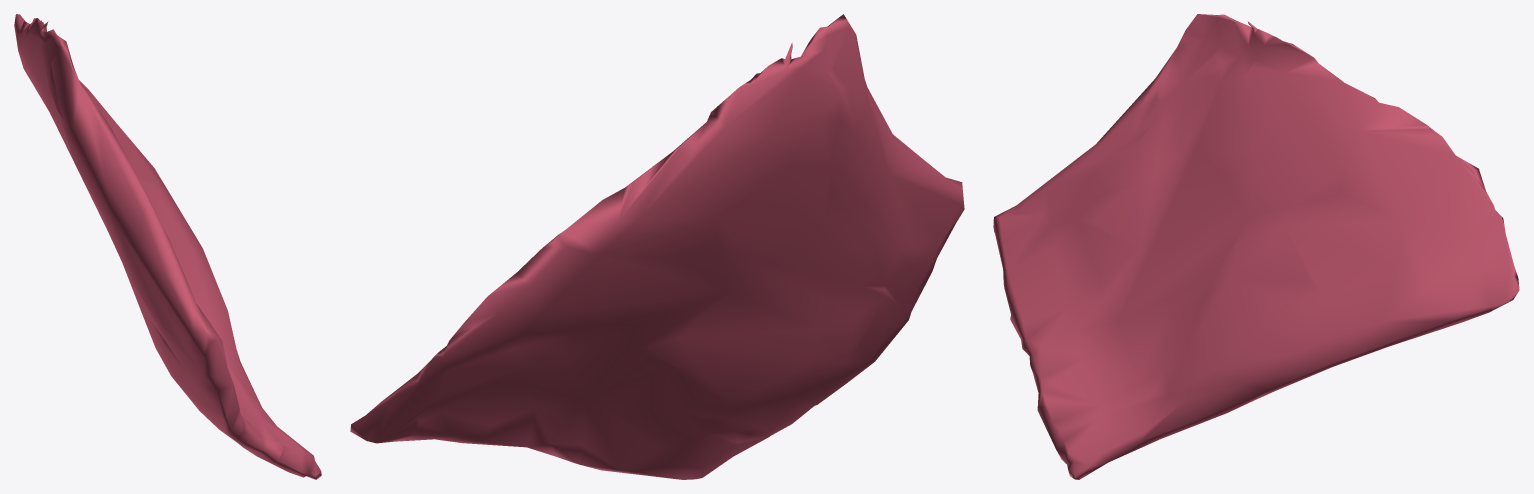
3 renders of one model, left to right at view 1: azimuth 30°, elevation 25°; view 2: azimuth 150°, elevation 25°; view 3: azimuth 270°, elevation 25°, orthographic. The views are drawn at different scales.
Parts seen in each view (by area): view 1: 右侧甲状舌骨肌; view 2: 右侧甲状舌骨肌; view 3: 右侧甲状舌骨肌.
Boxes of the visible parts, x1,y1,x2,y2 form: 右侧甲状舌骨肌: (14,14,321,479); 右侧甲状舌骨肌: (350,14,964,479); 右侧甲状舌骨肌: (993,14,1519,479).
Size of the model in its own units: 0.0181 by 0.0369 by 0.0454.
